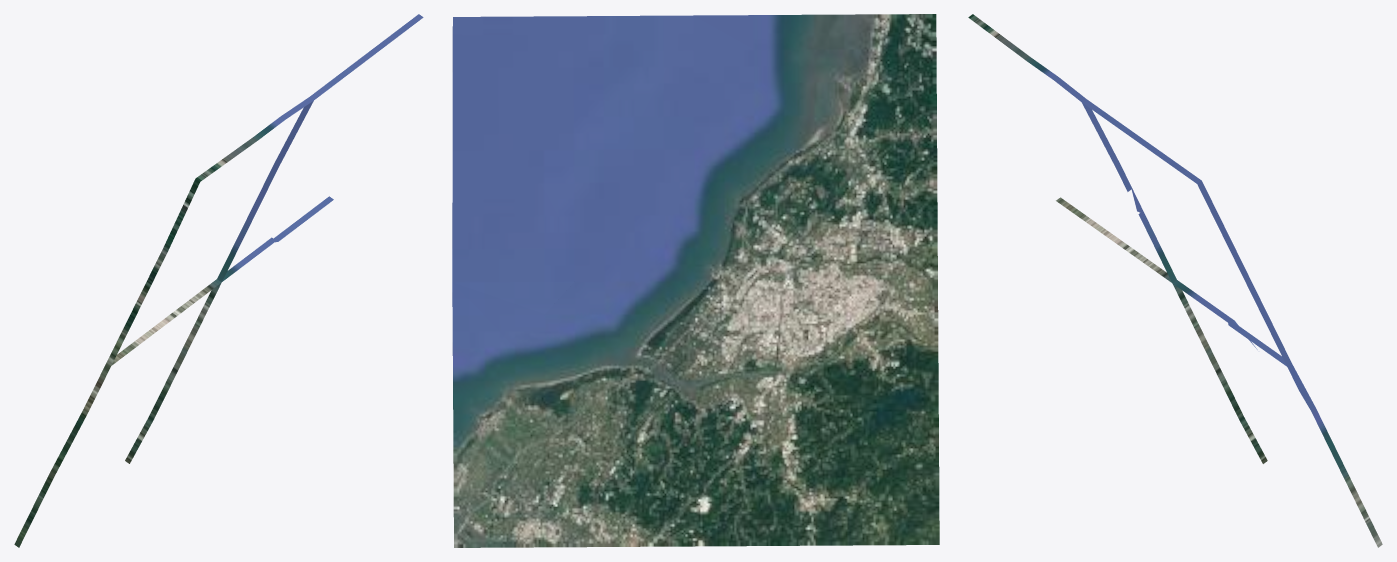
The picture shows the model from 3 angles, left to right: view 1: azimuth 30°, elevation 25°; view 2: azimuth 150°, elevation 25°; view 3: azimuth 270°, elevation 25°; orthographic projection. The views are drawn at different scales.
Size of the model in its own units: 19710 by 17943 by 16349.
Materials: 1 (1 with a texture image).
